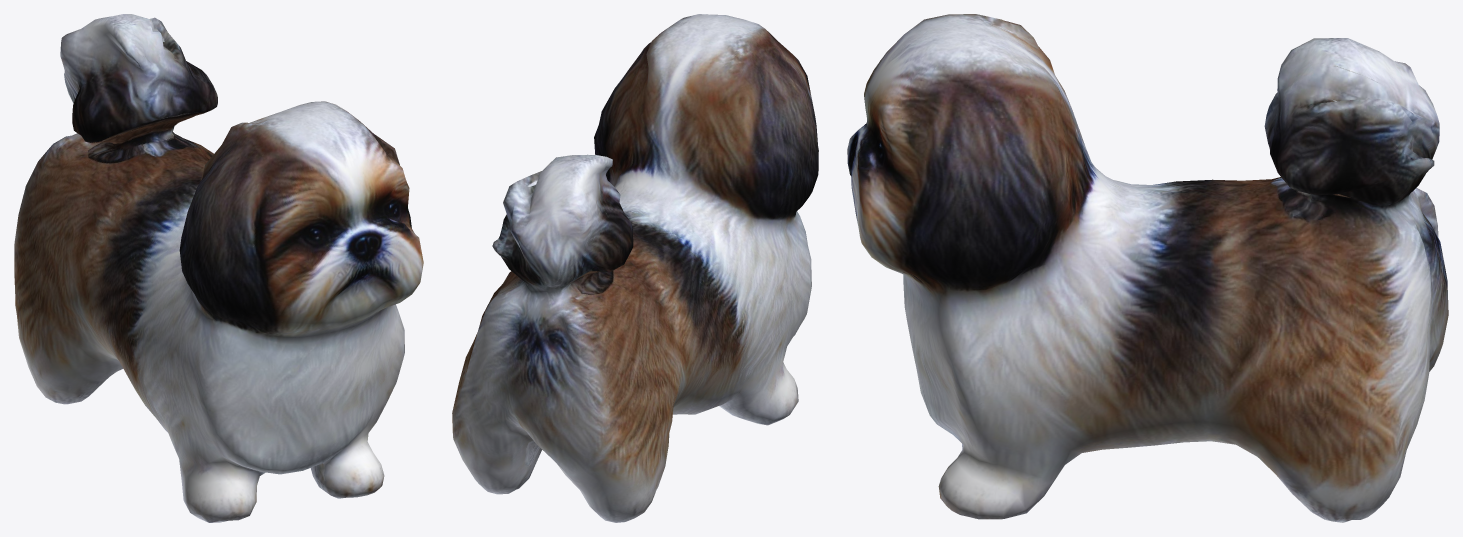
File: shih_tzu.glb
The picture shows the model from 3 angles, left to right: view 1: azimuth 30°, elevation 25°; view 2: azimuth 150°, elevation 25°; view 3: azimuth 270°, elevation 25°; orthographic projection. The views are drawn at different scales.
Visible parts, largest first — view 1: base_material_006-material; view 2: base_material_006-material; view 3: base_material_006-material.
Part boxes in pixels (x1=…): base_material_006-material: x1=14, y1=14, x2=423, y2=522; base_material_006-material: x1=452, y1=14, x2=818, y2=522; base_material_006-material: x1=847, y1=14, x2=1448, y2=522.
Bounding box in the file's own units: 0.4619 × 0.8239 × 0.9976.
1 material, 1 textured.
